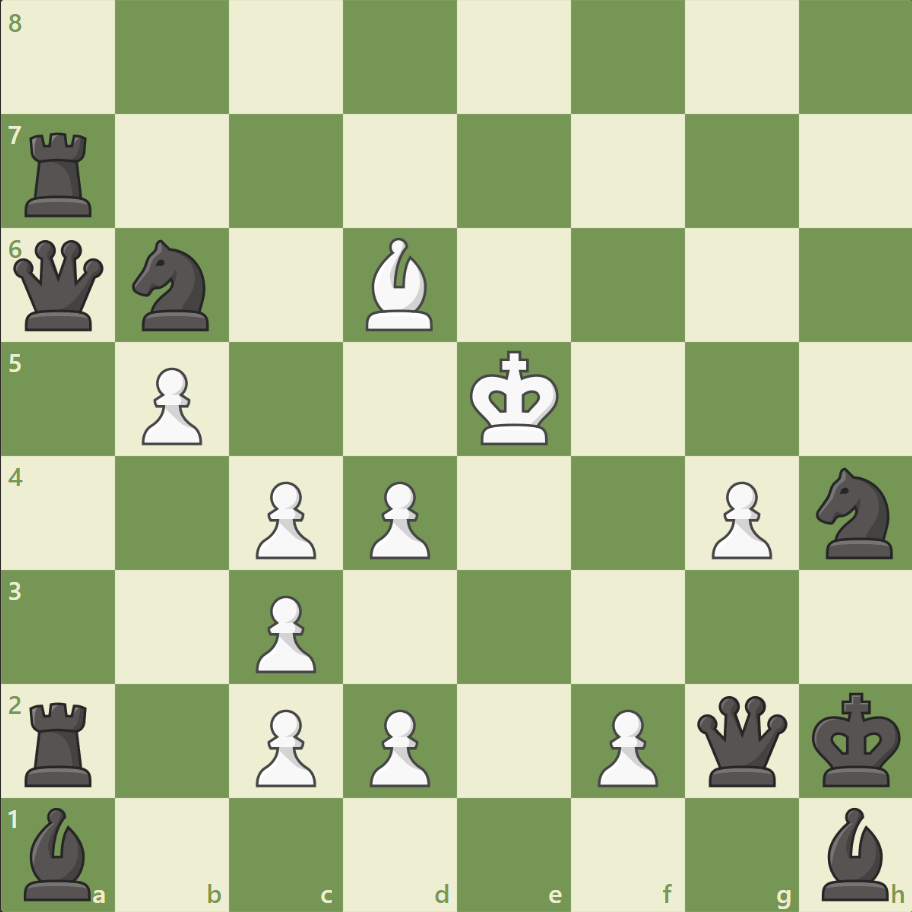B: (358, 233, 442, 336)
K: (465, 344, 565, 452)
P: (133, 359, 208, 450), (247, 473, 322, 564), (701, 473, 776, 564), (247, 586, 322, 677), (247, 700, 322, 791), (361, 473, 435, 564), (361, 700, 435, 791), (588, 700, 662, 791)
b: (17, 801, 101, 904), (812, 801, 896, 904)
k: (806, 685, 906, 793)
n: (124, 234, 222, 337), (806, 461, 903, 564)
q: (10, 236, 109, 335), (691, 690, 790, 789)
r: (19, 125, 102, 222), (19, 693, 102, 790)
